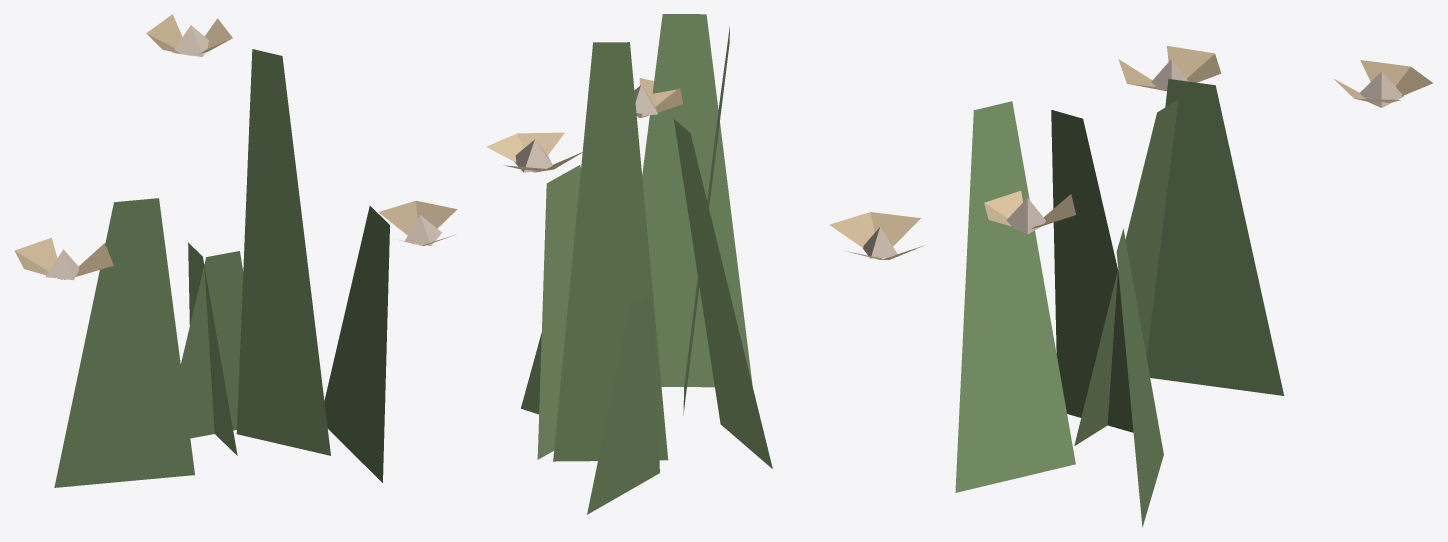
The model's file is cao.jue@flowering__bloom.glb.
The picture shows the model from 3 angles, left to right: view 1: azimuth 30°, elevation 25°; view 2: azimuth 150°, elevation 25°; view 3: azimuth 270°, elevation 25°; orthographic projection. The views are drawn at different scales.
Visible parts, largest first — view 1: cao.jue@flowering__bloom; view 2: cao.jue@flowering__bloom; view 3: cao.jue@flowering__bloom.
Part boxes in pixels (box(x1,y1,x2,y2)): cao.jue@flowering__bloom: box(14, 14, 457, 487); cao.jue@flowering__bloom: box(486, 14, 924, 514); cao.jue@flowering__bloom: box(955, 46, 1432, 527).
Bounding box in the file's own units: 1.15 × 1.14 × 1.13.
